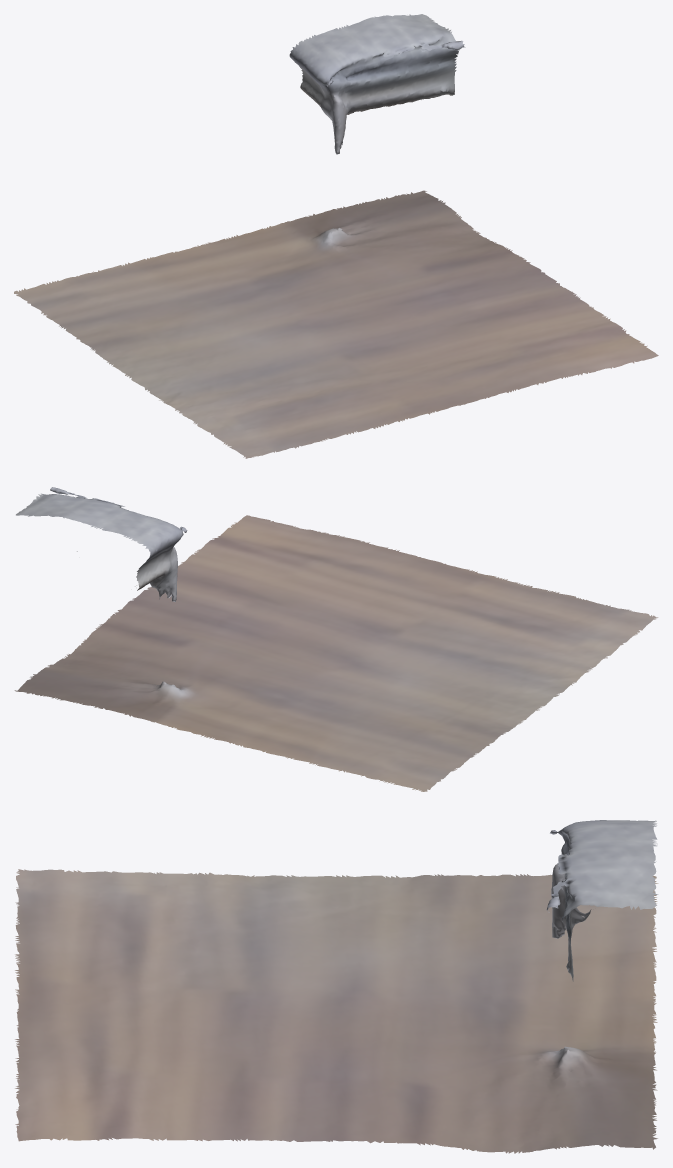
File: apartment-full-112-e39cc6a93b6f.glb
3 renders of one model, top to bottom at view 1: azimuth 30°, elevation 25°; view 2: azimuth 150°, elevation 25°; view 3: azimuth 270°, elevation 25°, orthographic. The views are drawn at different scales.
Bounding box in the file's own units: 1.23 × 0.565 × 1.21.
